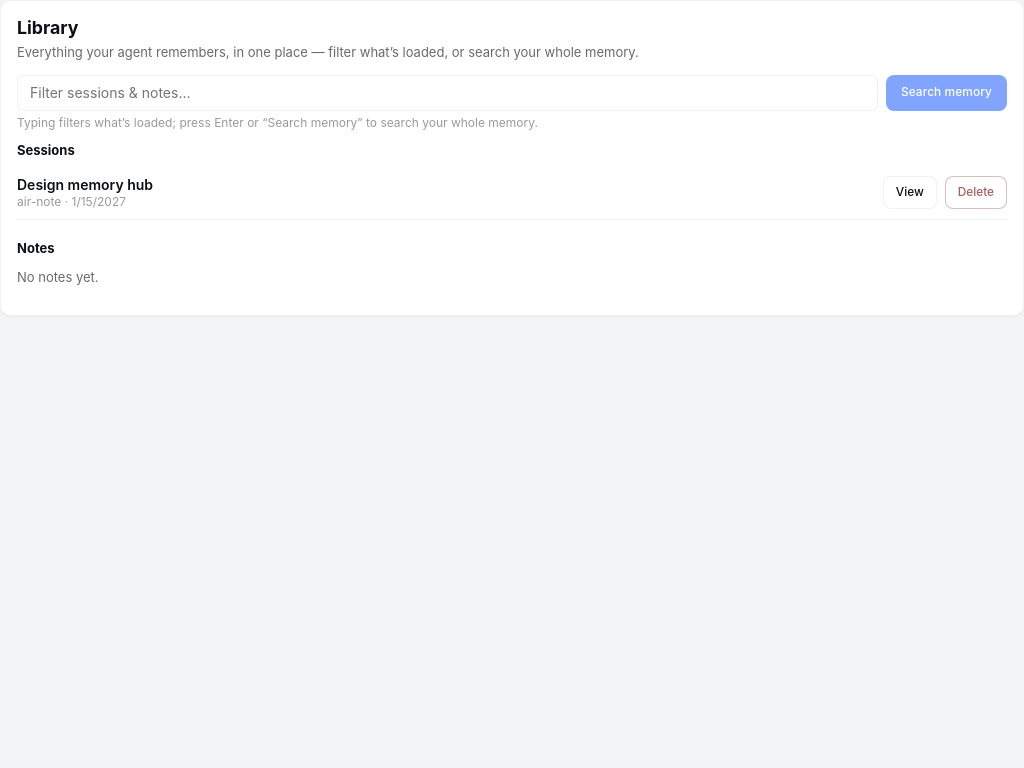
Test: LibraryPanel › clicking a session opens the reader with its rendered markdown
The image size is (1024, 768).
Check: the text "Design memory hub" is shown, box [17,176,153,194]
Click the button "View".
click(910, 192)  # box [883,176,937,209]
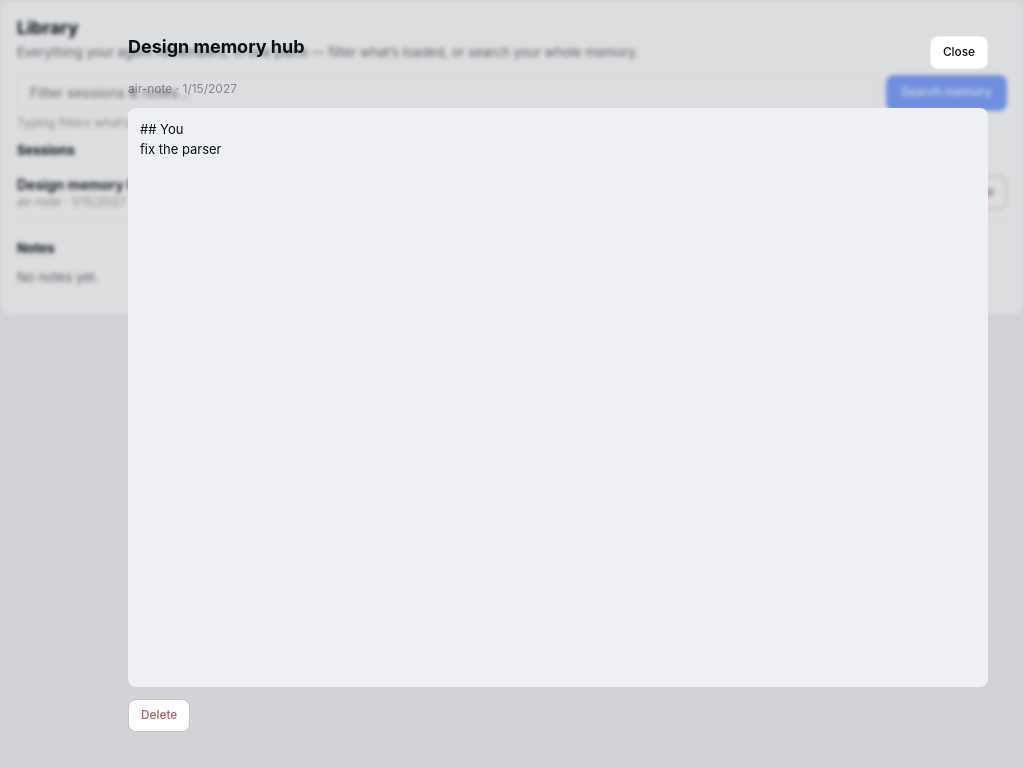
Check: the text "## You fix the parser" is shown
